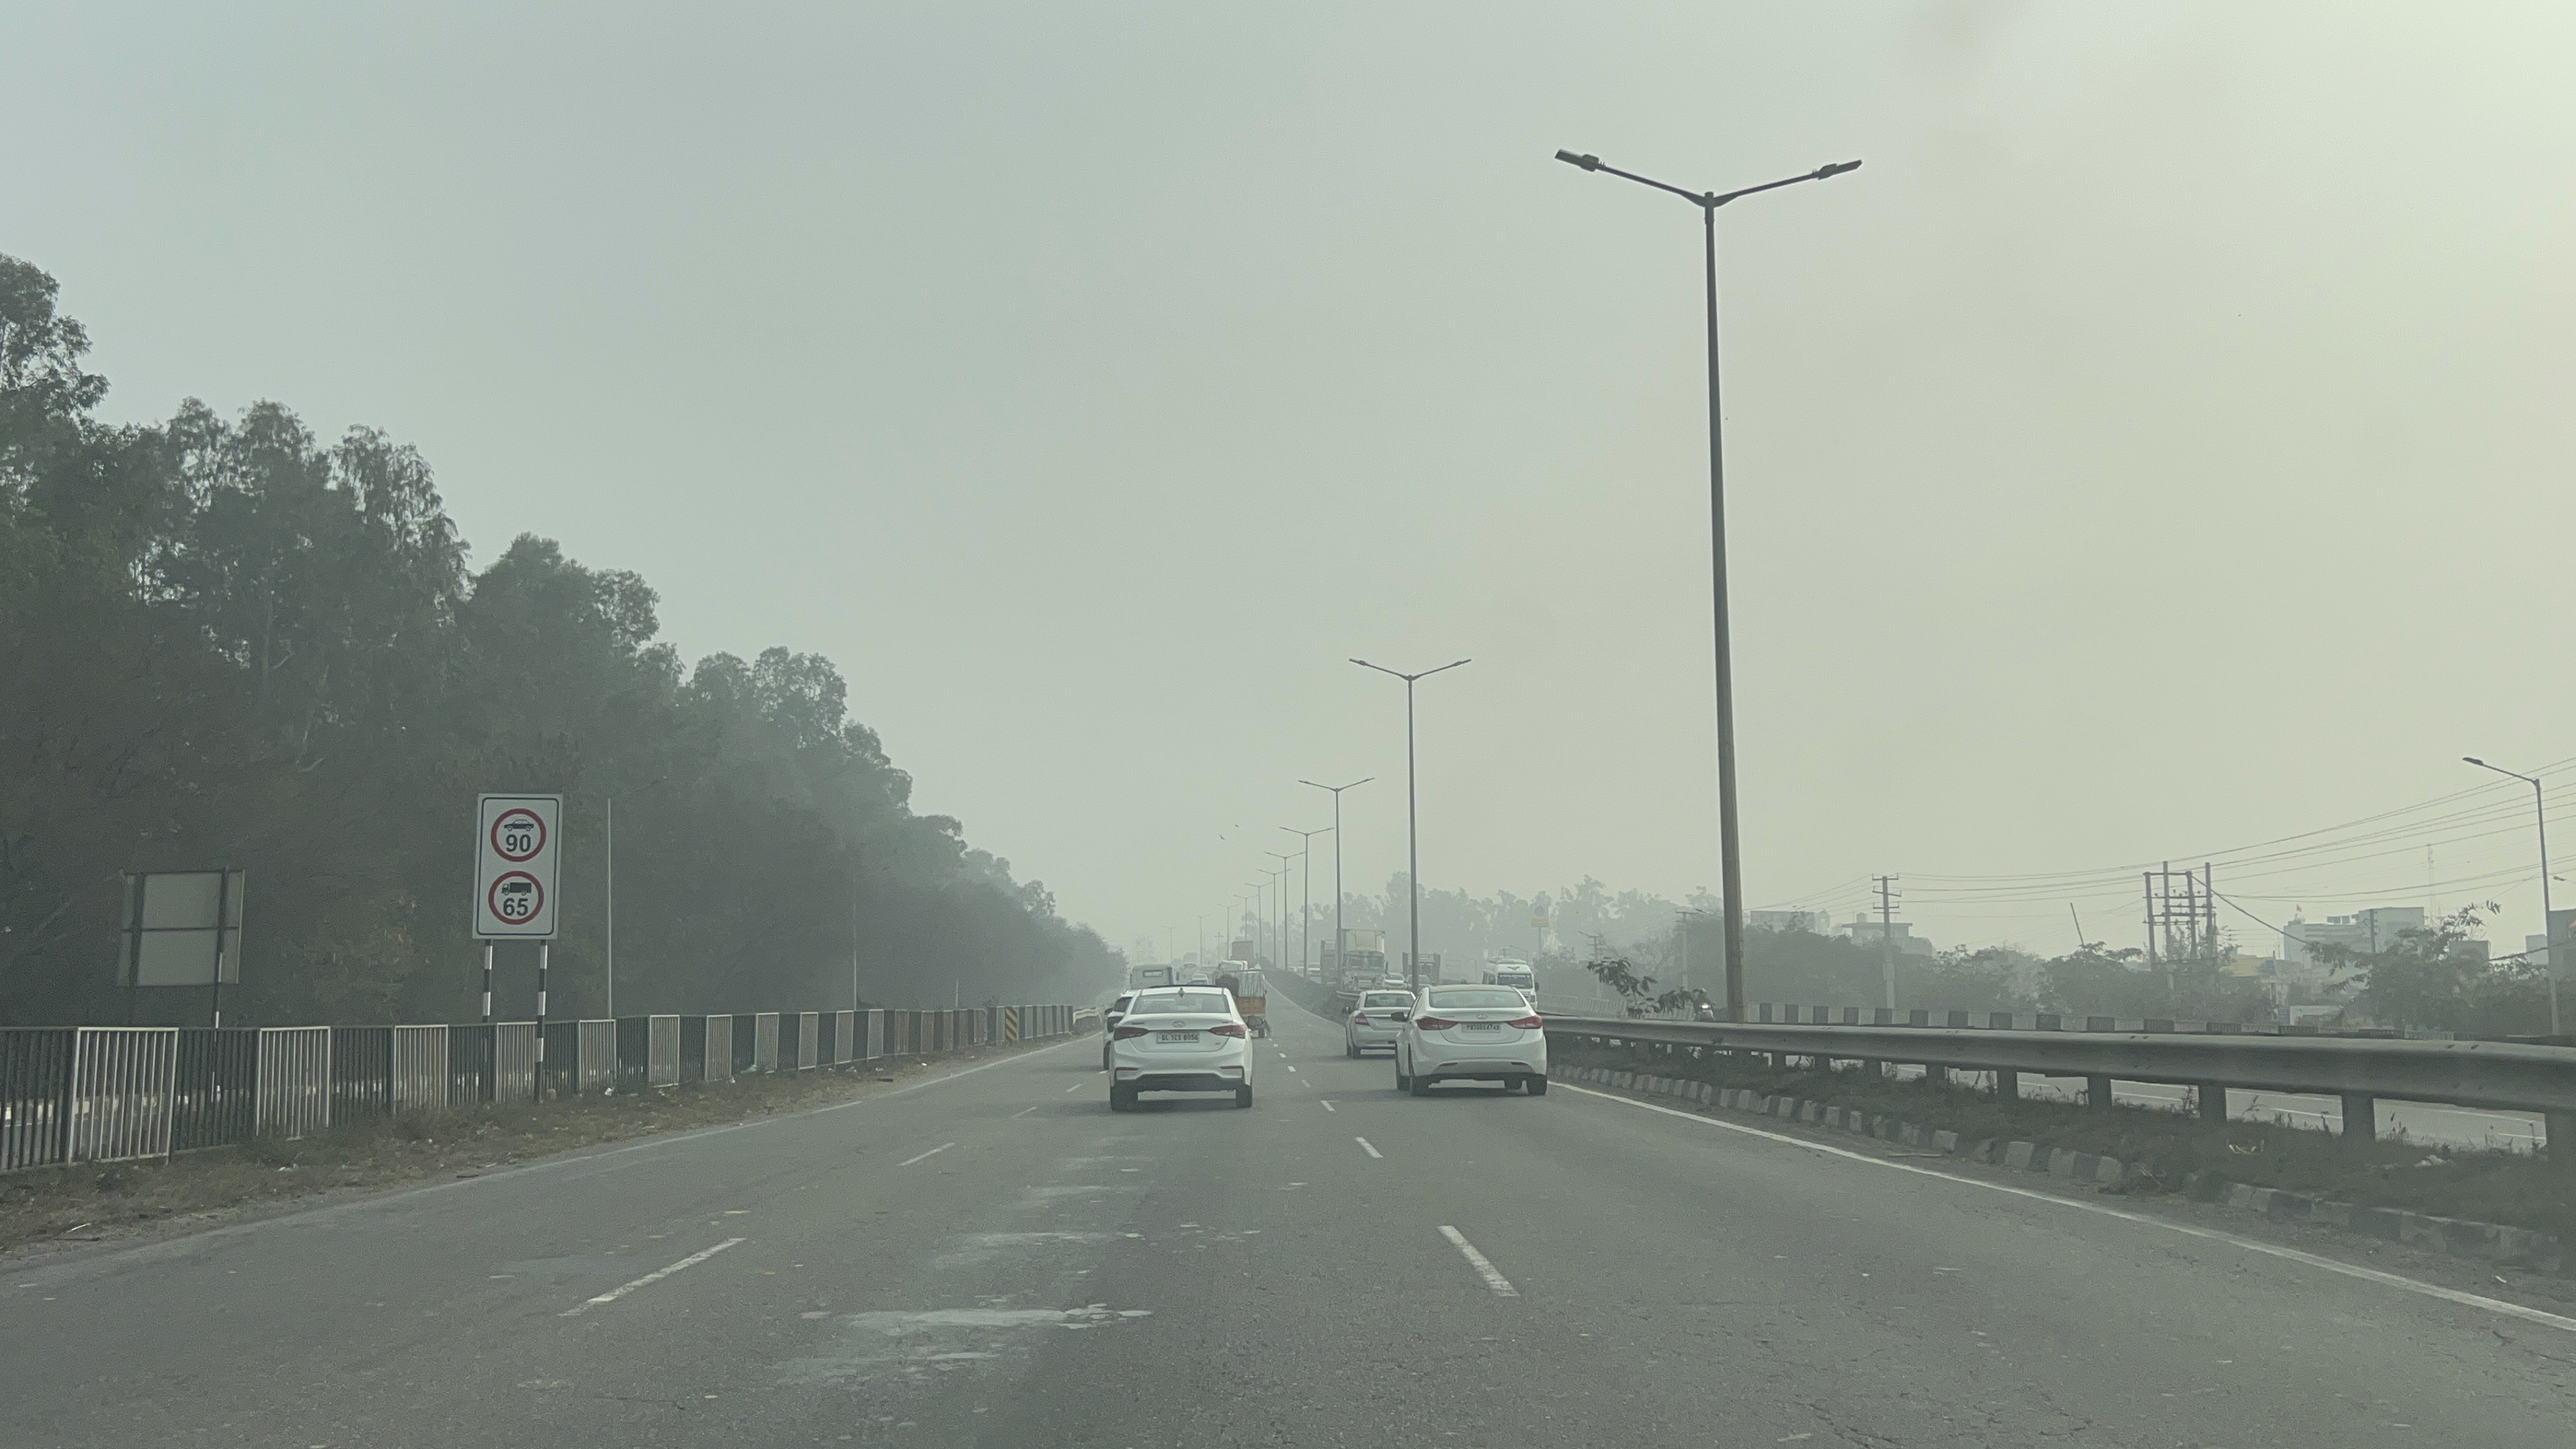Mandatory: (465, 782, 559, 876), (478, 862, 557, 934)
